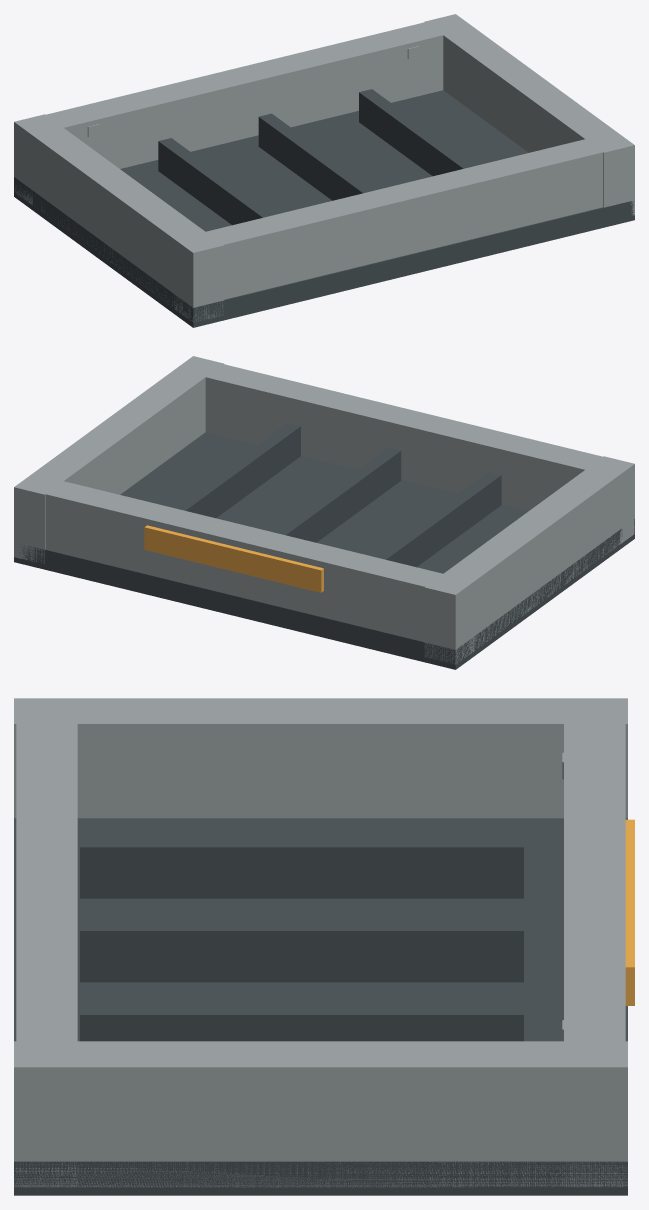
Rendered from lab_parts_tray.glb.
The picture shows the model from 3 angles, top to bottom: view 1: azimuth 30°, elevation 25°; view 2: azimuth 150°, elevation 25°; view 3: azimuth 270°, elevation 25°; orthographic projection. The views are drawn at different scales.
Parts seen in each view (by area): view 1: lab_parts_tray; view 2: lab_parts_tray; view 3: lab_parts_tray.
Boxes of the visible parts, x1,y1,x2,y2 form: lab_parts_tray: [14, 14, 634, 327]; lab_parts_tray: [14, 356, 634, 669]; lab_parts_tray: [14, 698, 634, 1195].
Bounding box in the file's own units: 1.85 × 0.3 × 1.31.
